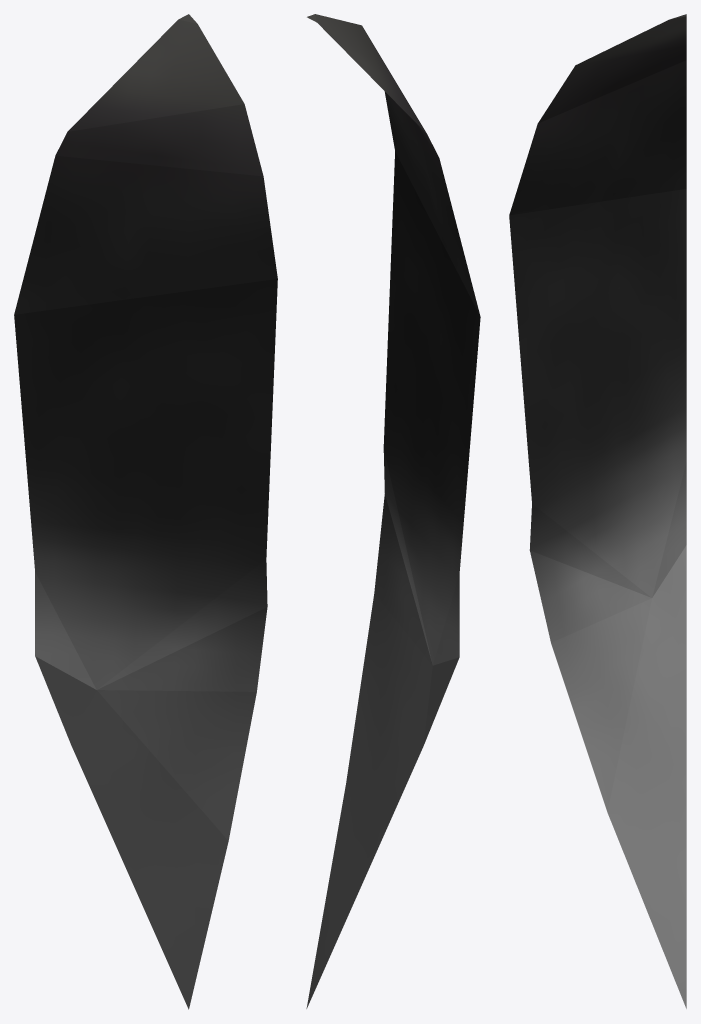
The picture shows the model from 3 angles, left to right: view 1: azimuth 30°, elevation 25°; view 2: azimuth 150°, elevation 25°; view 3: azimuth 270°, elevation 25°; orthographic projection.
Size of the model in its own units: 0.0312 by 0.1699 by 0.0275.
Materials: 1 (1 with a texture image).
